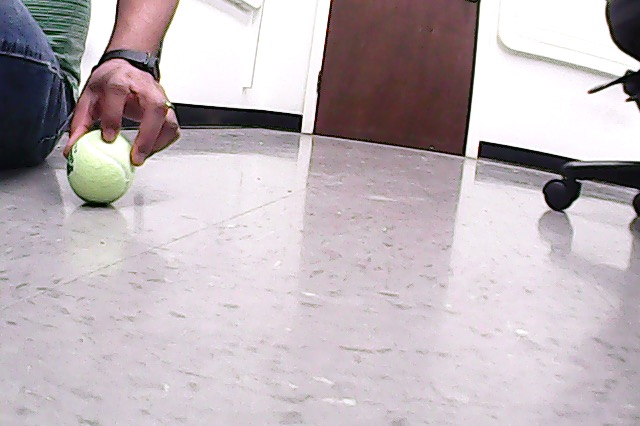ball: (66, 128, 139, 207)
